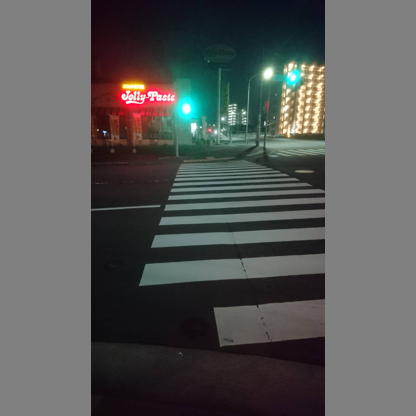crosswalk: (136, 161, 323, 361)
